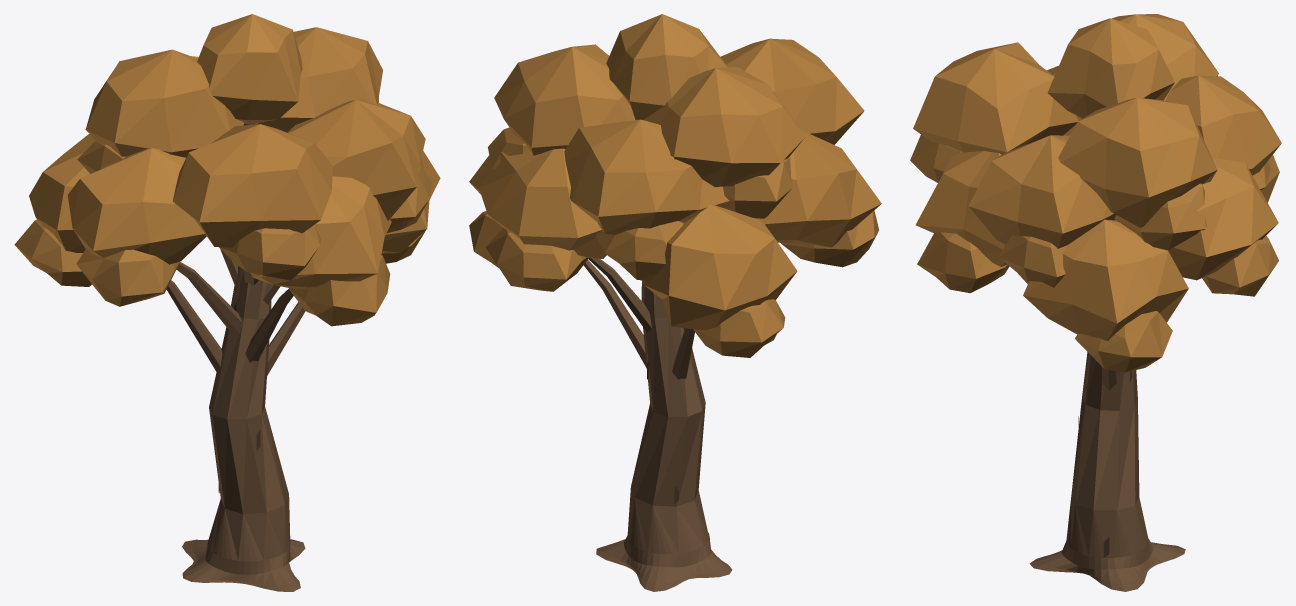
The model's file is oak_autumn.glb.
The picture shows the model from 3 angles, left to right: view 1: azimuth 30°, elevation 25°; view 2: azimuth 150°, elevation 25°; view 3: azimuth 270°, elevation 25°; orthographic projection.
Parts seen in each view (by area): view 1: leaves, branches; view 2: leaves, branches; view 3: leaves, branches.
Boxes of the visible parts, <box> form: leaves: <box>14,14,440,326</box>; branches: <box>166,123,305,591</box>; leaves: <box>469,14,881,357</box>; branches: <box>583,258,732,591</box>; leaves: <box>910,14,1281,372</box>; branches: <box>1029,352,1185,591</box>.
Bounding box in the file's own units: 3.5 × 4.8 × 2.97.
